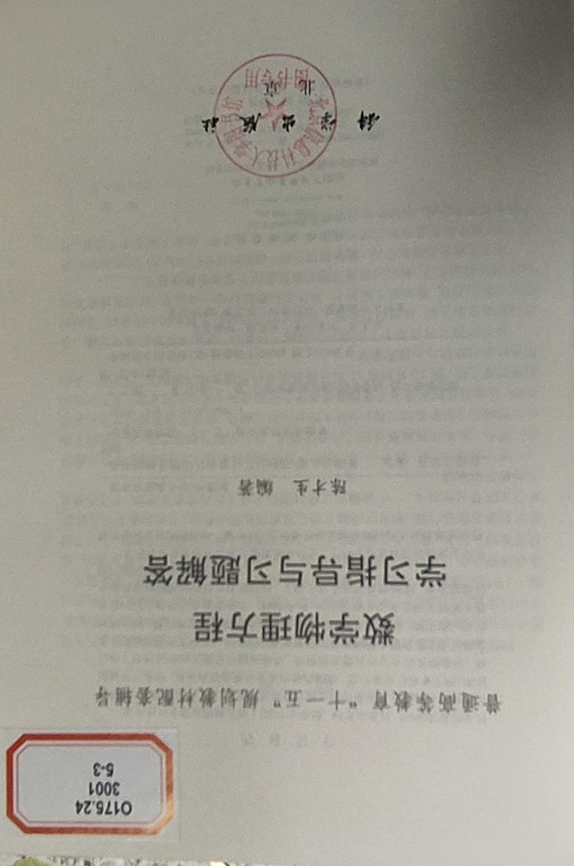Text_area: (128, 537, 451, 664), (11, 715, 218, 866), (60, 669, 533, 733), (207, 37, 383, 186), (204, 475, 359, 509)
